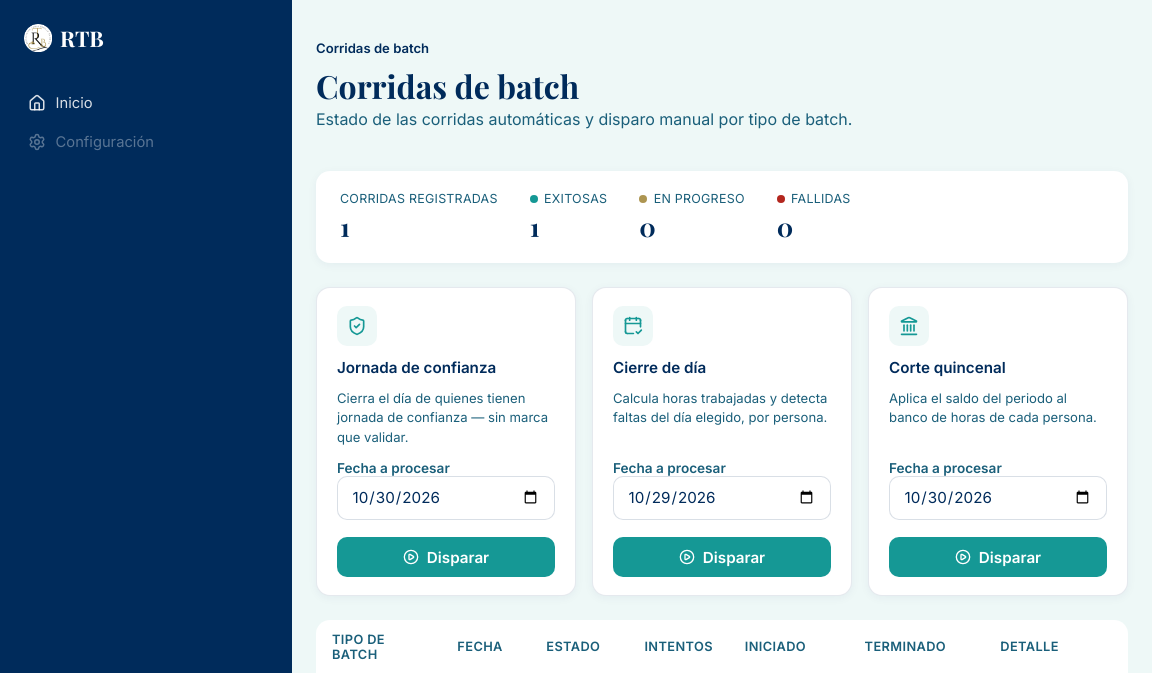
Scenario: PanelCorridasBatchPage › muestra un 422 del backend (bloqueo horario de cierre_dia) como texto en el alert
Click the button with aria-label "disparar cierre de día" at x=722, y=557, box [613, 537, 831, 577]
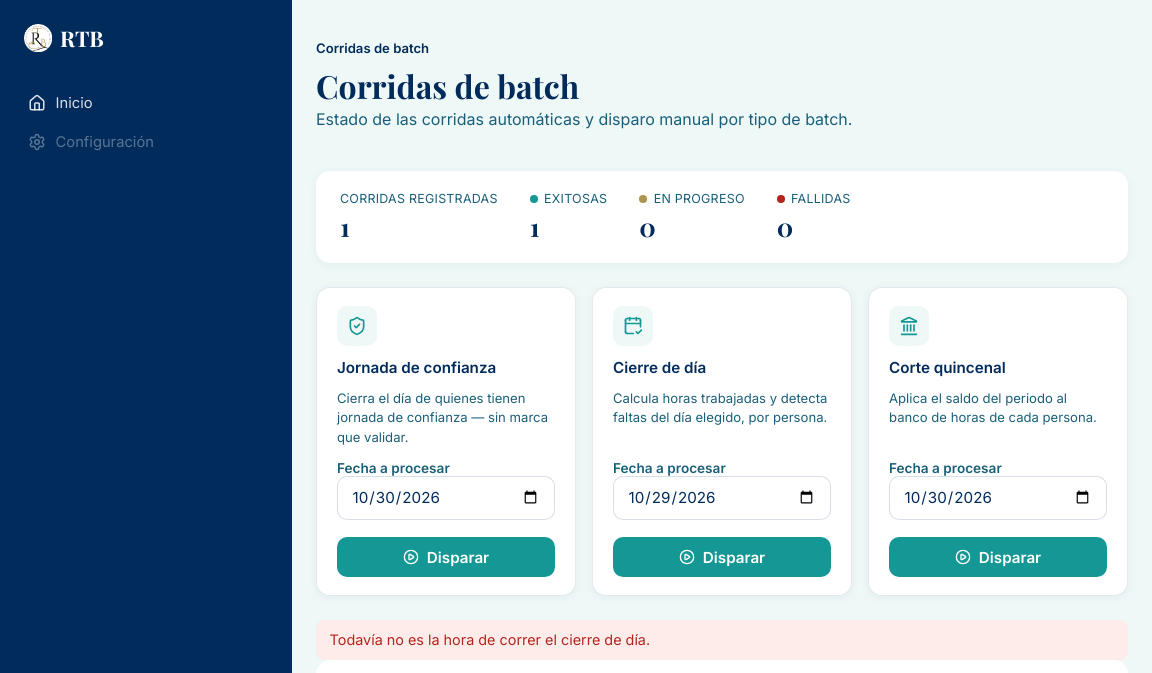
Expected: the text "Todavía no es la hora de correr el cierre de día." is shown, [316, 620, 1128, 660]
